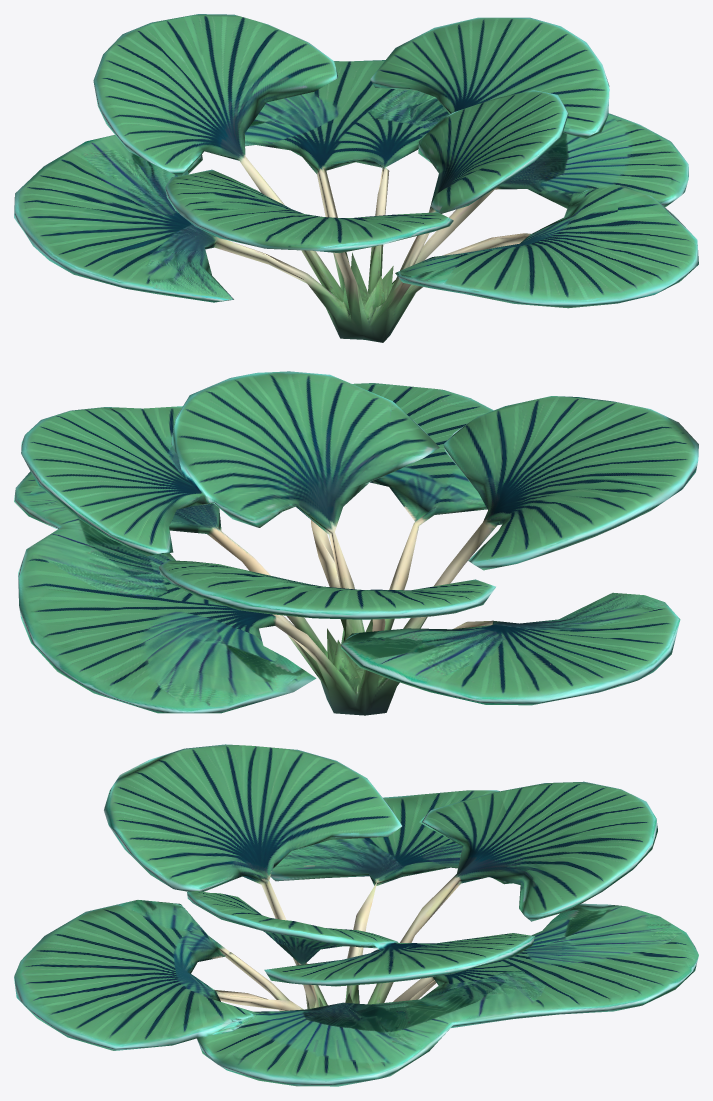
3 renders of one model, top to bottom at view 1: azimuth 30°, elevation 25°; view 2: azimuth 150°, elevation 25°; view 3: azimuth 270°, elevation 25°, orthographic. The views are drawn at different scales.
Parts seen in each view (by area): view 1: Mesh_0; view 2: Mesh_0; view 3: Mesh_0.
Part boxes in pixels (x1=…): Mesh_0: x1=14, y1=14, x2=698, y2=342; Mesh_0: x1=14, y1=371, x2=698, y2=715; Mesh_0: x1=14, y1=744, x2=698, y2=1086.
Size of the model in its own units: 1.9 by 0.6755 by 1.91.
1 material, 1 textured.
